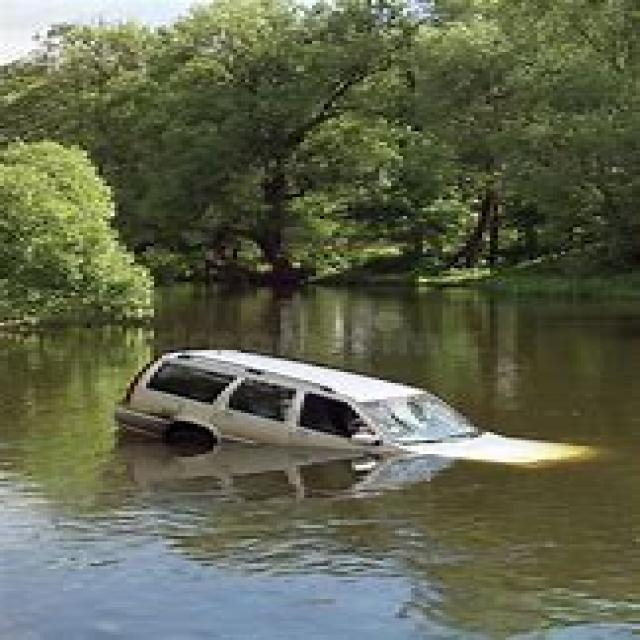Accident: (103, 234, 638, 507)
